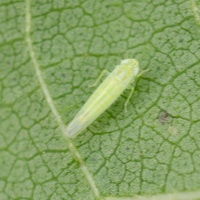insect: (66, 59, 138, 137)
